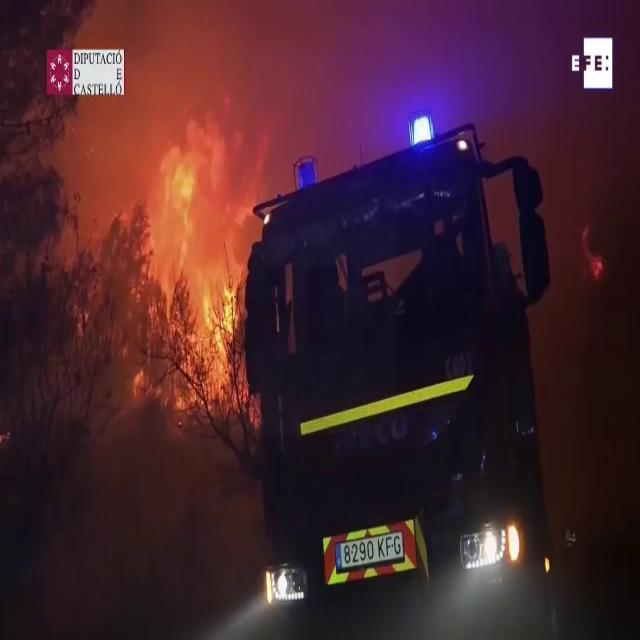Fire: (138, 112, 254, 414)
